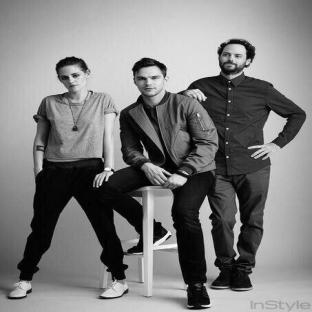Human: (180, 39, 305, 291), (100, 58, 217, 308), (8, 57, 127, 299), (154, 220, 171, 245)
